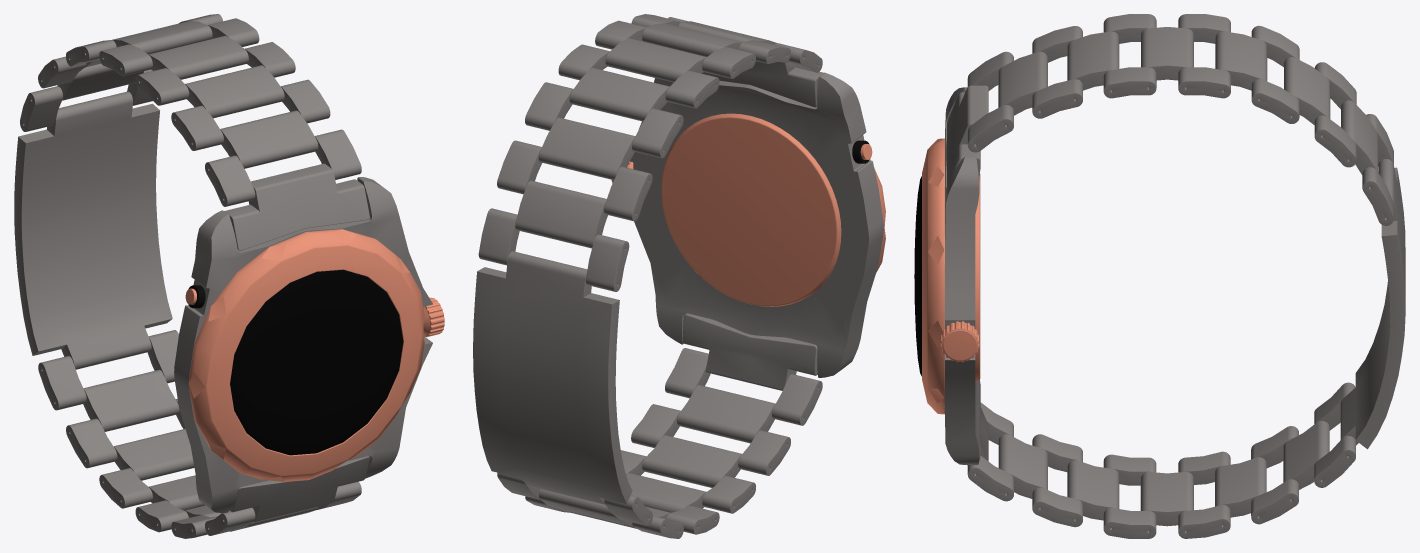
File: reloj.fbx
3 renders of one model, left to right at view 1: azimuth 30°, elevation 25°; view 2: azimuth 150°, elevation 25°; view 3: azimuth 270°, elevation 25°, orthographic. The views are drawn at different scales.
Parts seen in each view (by area): view 1: Wrist Chain Block 038, Dial Glass, Watch Dial, Gear Box, Block Connector 001, Wrist Chain Block 035, Block Connector 002, Wrist Chain Block 003, Wrist Chain Block 006, Wrist Chain Block 032, Wrist Chain Block 009, Wrist Chain Block 012 (+22 smaller); view 2: Gear Box, Wrist Chain Block 038, Block Connector 002, Wrist Chain Block 018, Wrist Chain Block 015, Wrist Chain Block 023, Wrist Chain Block 012, Wrist Chain Block 026, Wrist Chain Block 009, Block Connector 001, Wrist Chain Block 029, Wrist Chain Block 019 (+23 smaller); view 3: Gear Box, Wrist Chain Block 038, Watch Dial, Wrist Chain Block 029, Wrist Chain Block 009, Wrist Chain Block 012, Wrist Chain Block 006, Wrist Chain Block 026, Wrist Chain Block 032, Block Connector 001, Wrist Chain Block 003, Wrist Chain Block 023 (+31 smaller).
Boxes of the visible parts, box(x1,y1,x2,y2) form: Wrist Chain Block 038: box(14, 91, 172, 369); Dial Glass: box(230, 269, 403, 455); Watch Dial: box(188, 229, 424, 481); Gear Box: box(174, 177, 432, 512); Block Connector 001: box(224, 163, 369, 250); Wrist Chain Block 035: box(83, 369, 179, 431); Block Connector 002: box(229, 456, 369, 521); Wrist Chain Block 003: box(220, 110, 318, 168); Wrist Chain Block 006: box(185, 65, 284, 118); Wrist Chain Block 032: box(113, 429, 194, 480); Wrist Chain Block 009: box(148, 35, 248, 79); Wrist Chain Block 012: box(112, 21, 212, 54); Gear Box: box(630, 72, 883, 377); Wrist Chain Block 038: box(473, 251, 632, 504); Block Connector 002: box(683, 313, 817, 390); Wrist Chain Block 018: box(515, 180, 607, 248); Wrist Chain Block 015: box(538, 117, 635, 180); Wrist Chain Block 023: box(677, 385, 775, 443); Wrist Chain Block 012: box(569, 67, 669, 121); Wrist Chain Block 026: box(642, 435, 741, 487); Wrist Chain Block 009: box(605, 38, 706, 82); Block Connector 001: box(702, 61, 823, 107); Wrist Chain Block 029: box(626, 473, 706, 512); Wrist Chain Block 019: box(585, 234, 629, 291); Gear Box: box(945, 87, 980, 464); Wrist Chain Block 038: box(1340, 159, 1405, 449); Watch Dial: box(922, 138, 944, 414); Wrist Chain Block 029: box(1140, 472, 1193, 526); Wrist Chain Block 009: box(1141, 27, 1193, 80); Wrist Chain Block 012: box(1215, 31, 1267, 90); Wrist Chain Block 006: box(1067, 31, 1119, 90); Wrist Chain Block 026: box(1067, 460, 1119, 520); Wrist Chain Block 032: box(1215, 457, 1266, 517); Block Connector 001: box(947, 85, 988, 184); Wrist Chain Block 003: box(998, 51, 1047, 115); Wrist Chain Block 023: box(998, 434, 1047, 498).
Size of the model in its own units: 1.83 by 3.07 by 2.97.
